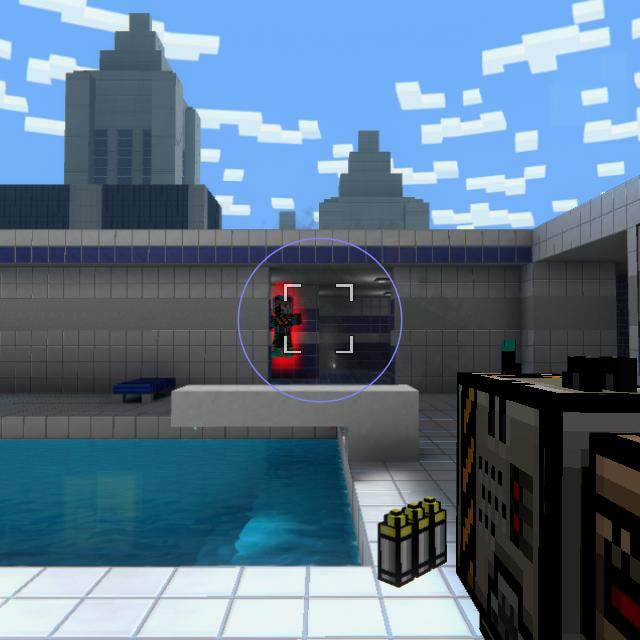Enemy: (270, 295, 301, 357)
